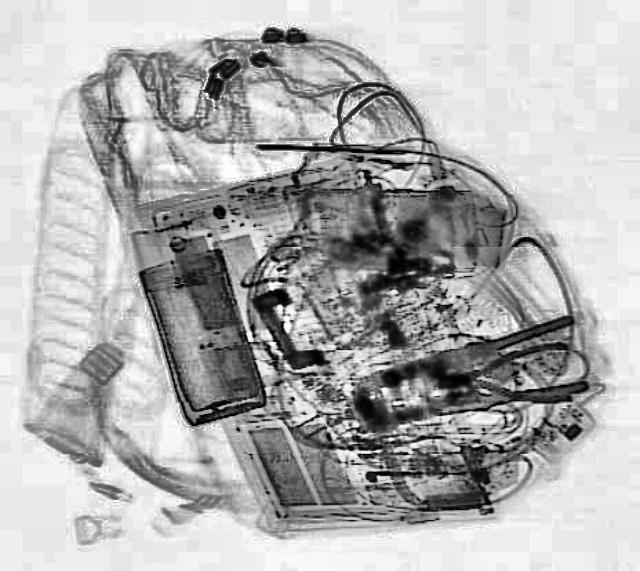Pliers: (337, 312, 598, 444), (442, 334, 590, 412)
